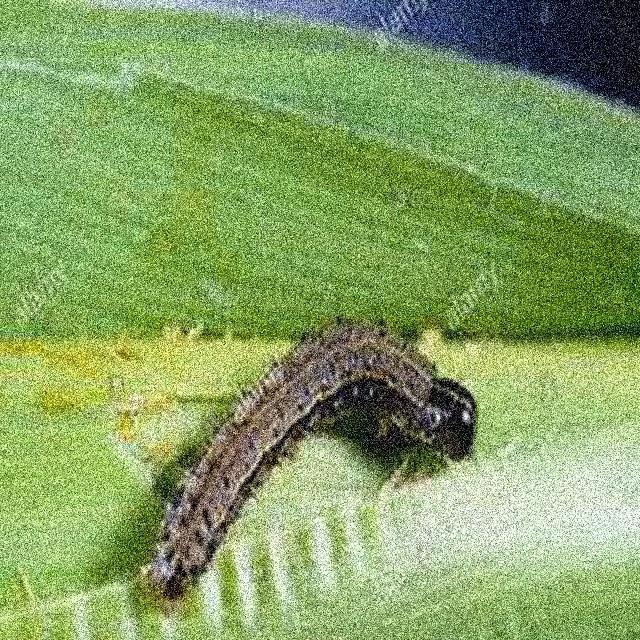worm: (140, 313, 479, 602)
